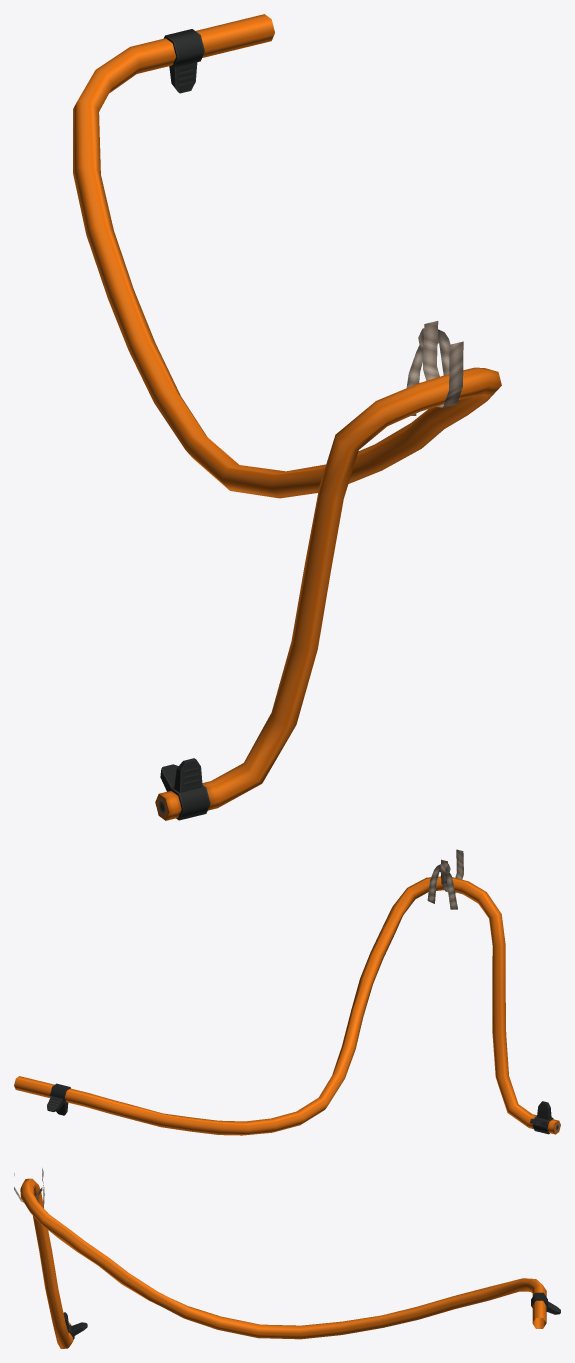
The model's file is jsf_GasRange_15a.fbx.
3 views of the same model, one above another, from view 1: azimuth 30°, elevation 25°; view 2: azimuth 150°, elevation 25°; view 3: azimuth 270°, elevation 25° (orthographic). The views are drawn at different scales.
Visible parts, largest first — view 1: GasHose; view 2: GasHose; view 3: GasHose.
Part boxes in pixels (<box>): GasHose: <box>73,14,501,820</box>; GasHose: <box>14,849,560,1135</box>; GasHose: <box>14,1168,560,1348</box>.
Bounding box in the file's own units: 42.28 × 31.85 × 69.18.
